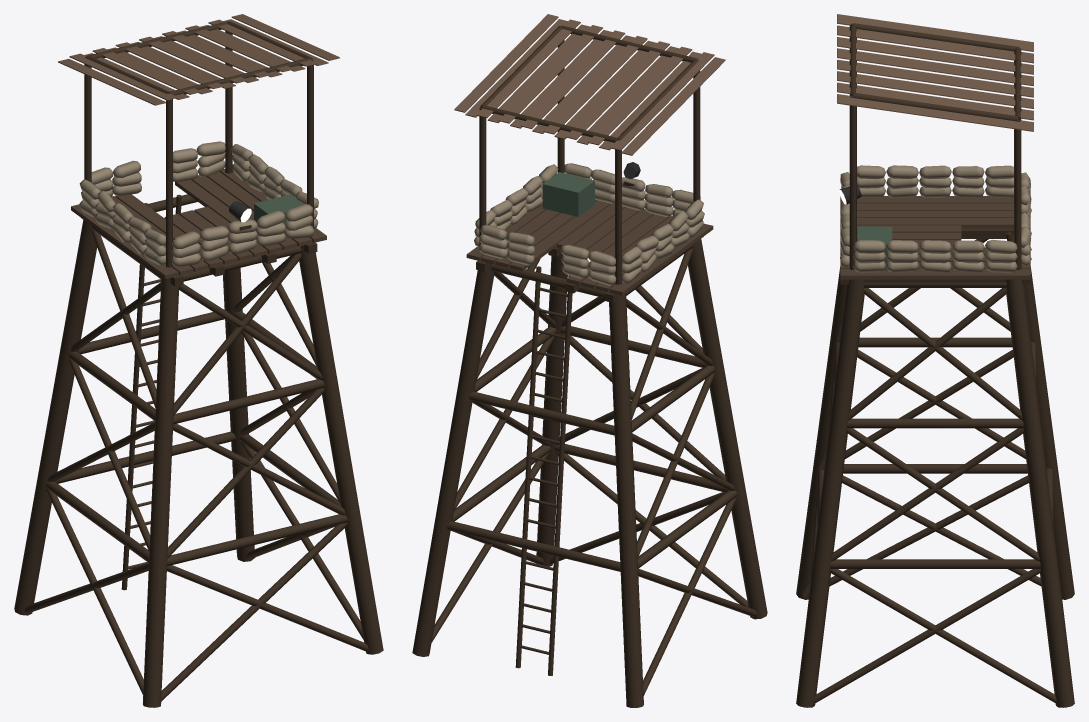
The model's file is guard-tower.glb.
3 views of the same model, side by side, from view 1: azimuth 30°, elevation 25°; view 2: azimuth 150°, elevation 25°; view 3: azimuth 270°, elevation 25° (orthographic). The views are drawn at different scales.
Visible parts, largest first — view 1: Mesh_Leg_2, Mesh_Leg_1, Mesh_Leg_3, Mesh_Leg_0, Mesh_Brace_F2_0, Mesh_Tie_F_0, Mesh_Brace_F2_1, Mesh_Brace_F1_0, Mesh_Brace_R1_0, Mesh_Tie_F_1, Mesh_Brace_F2_2, Mesh_Brace_F1_1 (+39 smaller); view 2: Mesh_Leg_3, Mesh_Leg_0, Mesh_Leg_2, Mesh_Leg_1, Mesh_TowerLadderLeftRail, Mesh_TowerLadderRightRail, Mesh_AmmoCrate, Mesh_Tie_B_0, Mesh_Brace_R2_0, Mesh_Brace_F2_0, Mesh_Tie_B_1, Mesh_Brace_R2_1 (+47 smaller); view 3: Mesh_Leg_0, Mesh_Leg_1, Mesh_Leg_3, Mesh_Leg_2, Mesh_Tie_L_0, Mesh_Brace_L1_0, Mesh_Brace_L2_0, Mesh_Tie_L_1, Mesh_Brace_L1_1, Mesh_Brace_L2_1, Mesh_Plank_0, Mesh_Tie_R_0 (+41 smaller).
Part boxes in pixels (box(x1,y1,x2,y2)): Mesh_Leg_2: box(143, 276, 179, 707); Mesh_Leg_1: box(299, 245, 383, 654); Mesh_Leg_3: box(14, 219, 97, 615); Mesh_Leg_0: box(223, 268, 255, 561); Mesh_Brace_F2_0: box(154, 522, 347, 707); Mesh_Tie_F_0: box(167, 514, 347, 565); Mesh_Brace_F2_1: box(167, 387, 324, 558); Mesh_Brace_F1_0: box(167, 565, 368, 651); Mesh_Brace_R1_0: box(46, 488, 143, 695); Mesh_Tie_F_1: box(173, 379, 324, 424); Mesh_Brace_F2_2: box(173, 253, 301, 415); Mesh_Brace_F1_1: box(173, 423, 345, 515); Mesh_Leg_3: box(609, 293, 643, 707); Mesh_Leg_0: box(412, 263, 494, 656); Mesh_Leg_2: box(688, 238, 767, 619); Mesh_Leg_1: box(536, 253, 567, 566); Mesh_TowerLadderLeftRail: box(515, 266, 541, 668); Mesh_TowerLadderRightRail: box(548, 275, 572, 675); Mesh_AmmoCrate: box(542, 172, 594, 216); Mesh_Tie_B_0: box(447, 521, 620, 571); Mesh_Brace_R2_0: box(643, 497, 736, 695); Mesh_Brace_F2_0: box(555, 451, 748, 607); Mesh_Tie_B_1: box(469, 391, 614, 435); Mesh_Brace_R2_1: box(637, 372, 714, 557); Mesh_Leg_0: box(1006, 279, 1074, 707); Mesh_Leg_1: box(796, 279, 864, 707); Mesh_Leg_3: box(1024, 267, 1074, 599); Mesh_Leg_2: box(796, 267, 846, 599); Mesh_Tie_L_0: box(830, 559, 1040, 568); Mesh_Brace_L1_0: box(830, 568, 1063, 707); Mesh_Brace_L2_0: box(807, 568, 1040, 707); Mesh_Tie_L_1: box(847, 418, 1023, 428); Mesh_Brace_L1_1: box(847, 428, 1039, 561); Mesh_Brace_L2_1: box(831, 428, 1023, 561); Mesh_Plank_0: box(840, 269, 1030, 279); Mesh_Tie_R_0: box(843, 464, 1027, 473).
Size of the model in its own units: 3.22 by 7.59 by 3.22.
